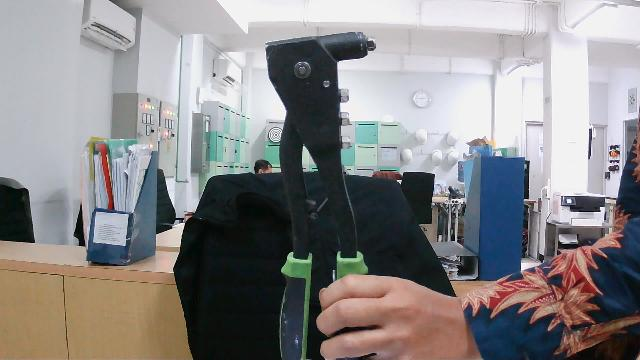tang_rivet: (254, 27, 398, 360)
